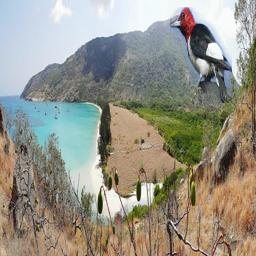Woodpecker: (170, 7, 232, 103)
